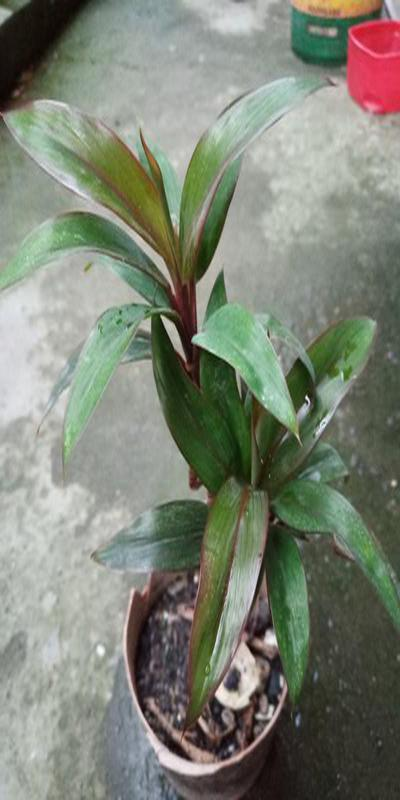Baston de san jose: (6, 99, 400, 689)
